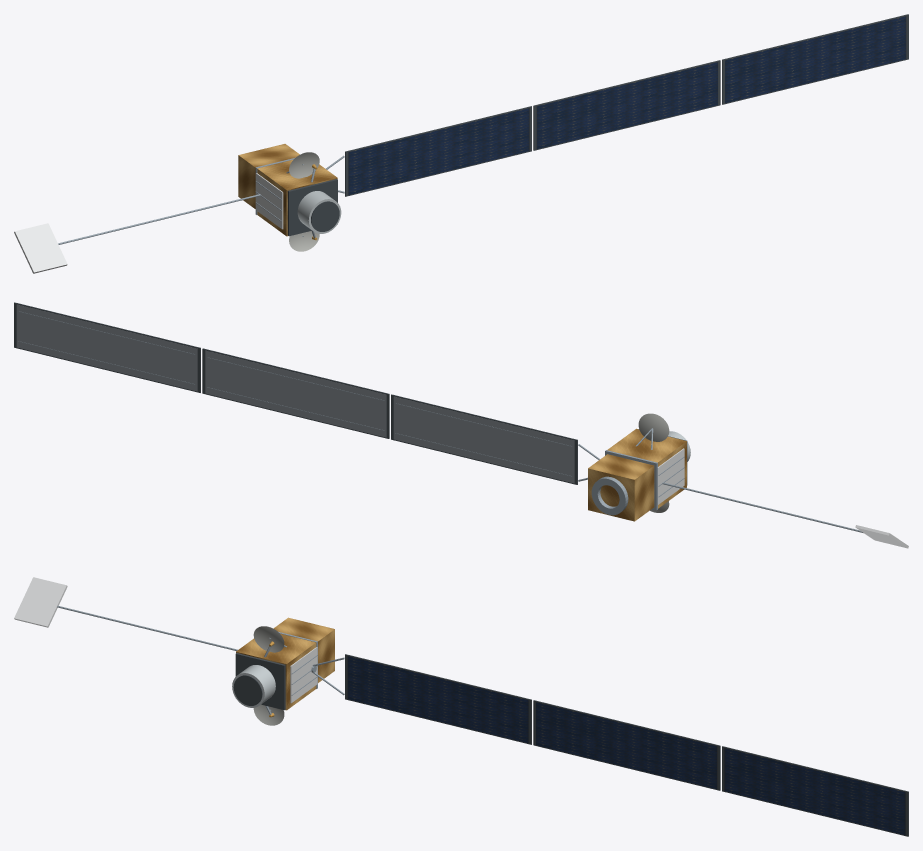
Rendered from himawari-6.glb.
The picture shows the model from 3 angles, top to bottom: view 1: azimuth 30°, elevation 25°; view 2: azimuth 150°, elevation 25°; view 3: azimuth 330°, elevation 25°; orthographic projection.
Parts seen in each view (by area): view 1: Solar cell panel (×3), Solar panel frame (×3), Solar pressure sail, Payload module, Service module, Earth-facing deck, Radiator face, Optical instrument housing, Telescope aperture, Communications reflector; view 2: Rear array substrate (×3), Service module, Solar panel frame (×3), Payload module, Radiator face, Launch adapter ring, Communications reflector, Outboard boom; view 3: Solar cell panel (×3), Solar panel frame (×3), Solar pressure sail, Payload module, Service module, Earth-facing deck, Radiator face, Optical instrument housing, Telescope aperture, Communications reflector.
Part boxes in pixels (x1,y1,x2,y2): Solar cell panel (×3): (348,16,906,195); Solar panel frame (×3): (345,14,908,196); Solar pressure sail: (14,223,67,273); Payload module: (257,160,337,236); Service module: (238,144,299,208); Earth-facing deck: (287,179,337,236); Radiator face: (255,173,283,229); Optical instrument housing: (297,191,341,233); Telescope aperture: (311,201,339,231); Communications reflector: (289,152,319,178); Rear array substrate (×3): (16,304,574,483); Service module: (588,454,654,521); Solar panel frame (×3): (14,302,577,484); Payload module: (607,428,686,508); Radiator face: (657,448,684,504); Launch adapter ring: (591,476,628,515); Communications reflector: (638,413,669,441); Outboard boom: (662,482,862,532); Solar cell panel (×3): (347,656,905,835); Solar panel frame (×3): (345,654,908,836); Solar pressure sail: (14,577,67,627); Payload module: (236,633,316,710); Service module: (273,617,334,682); Earth-facing deck: (235,653,285,710); Radiator face: (290,647,317,703); Optical instrument housing: (232,665,275,707); Telescope aperture: (233,675,262,705); Communications reflector: (253,626,284,652).
Size of the model in its own units: 45.16 by 4.81 by 5.87.
9 materials, 2 textured.
